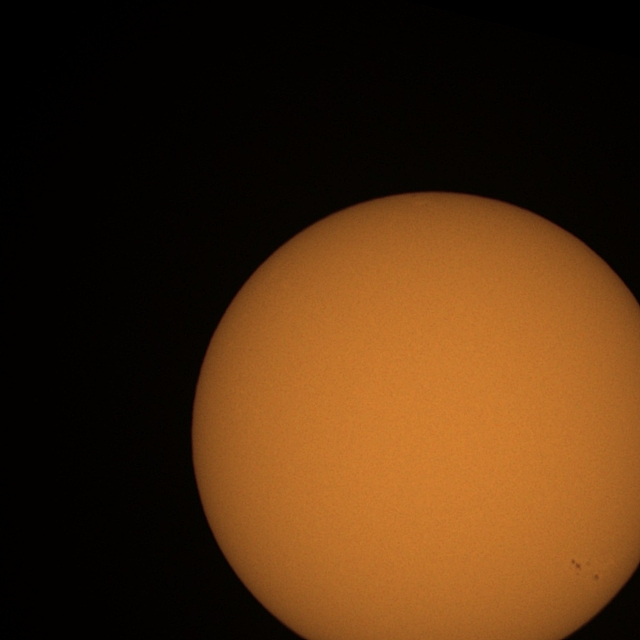sunspot: (568, 557, 600, 582), (570, 558, 586, 578), (592, 572, 600, 582)
